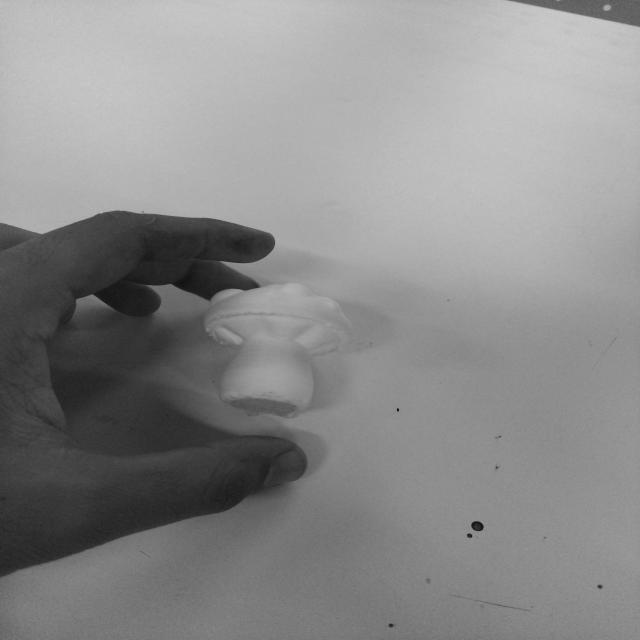Hongo: (188, 284, 364, 422)
